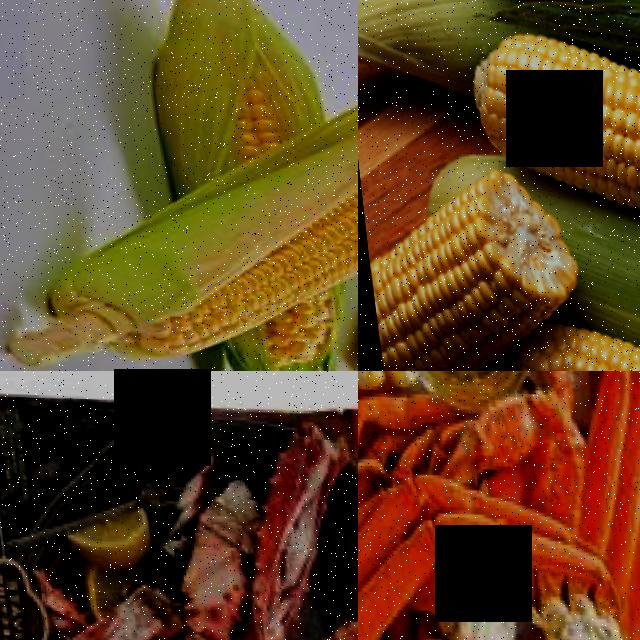corn: (97, 193, 358, 358), (463, 24, 640, 217), (358, 203, 519, 371)
crab: (358, 382, 561, 640), (532, 371, 640, 640), (223, 424, 355, 640)
